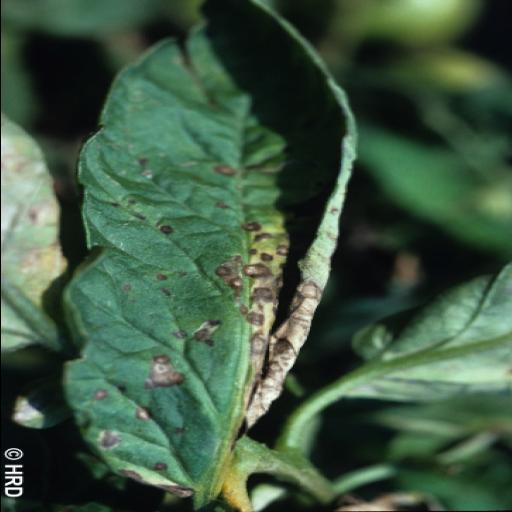Septoria: (54, 0, 364, 496)
